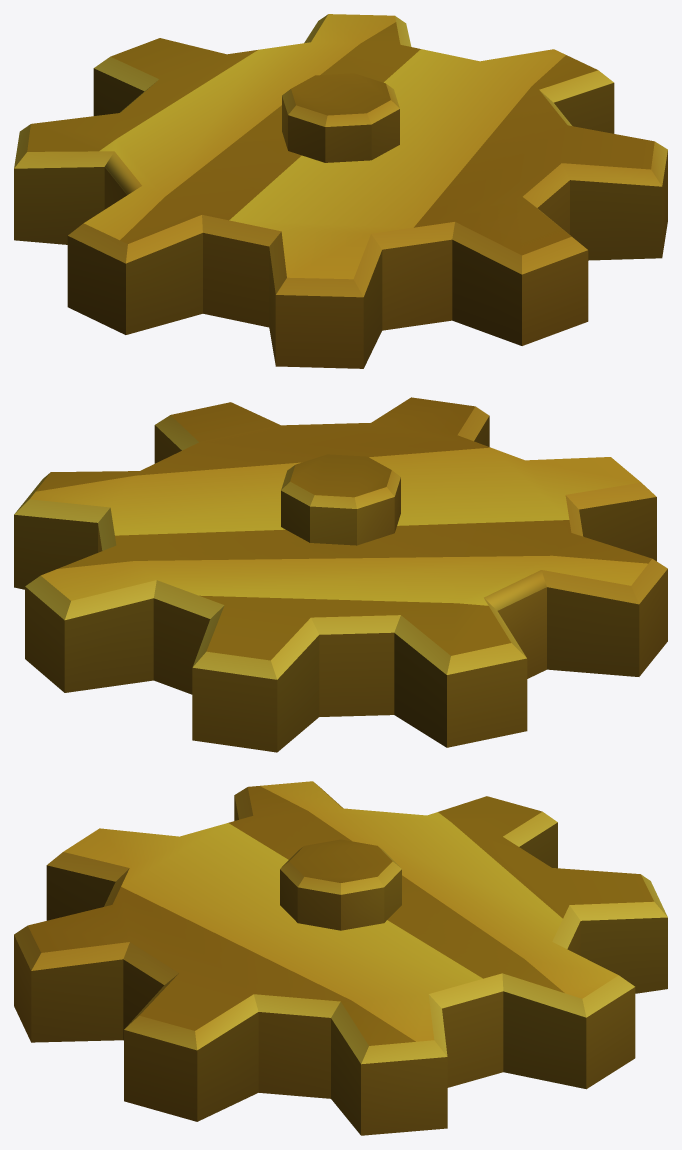
The model's file is GarysLabGear.fbx.
The picture shows the model from 3 angles, top to bottom: view 1: azimuth 30°, elevation 25°; view 2: azimuth 150°, elevation 25°; view 3: azimuth 270°, elevation 25°; orthographic projection.
Parts seen in each view (by area): view 1: GarysLabGear; view 2: GarysLabGear; view 3: GarysLabGear.
Part boxes in pixels (x1,y1,x2,y2): GarysLabGear: (14, 14, 667, 368); GarysLabGear: (14, 397, 667, 752); GarysLabGear: (14, 781, 667, 1135).
Bounding box in the file's own units: 162 × 37.18 × 162.
